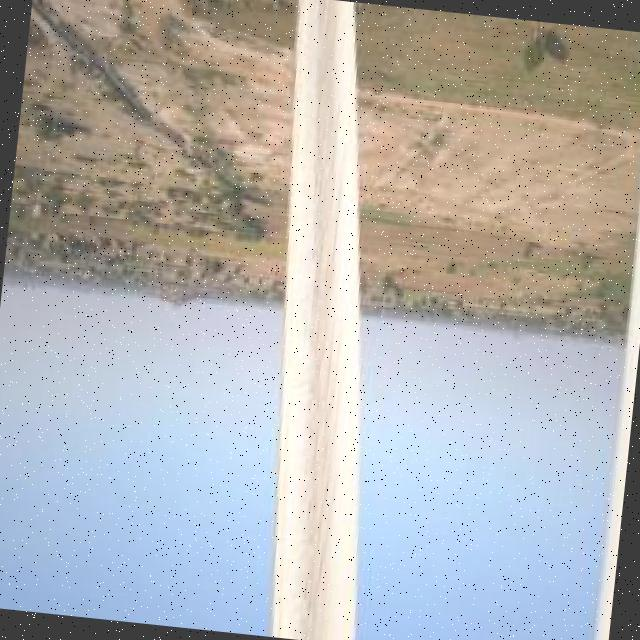Dirt: (277, 0, 350, 640)
